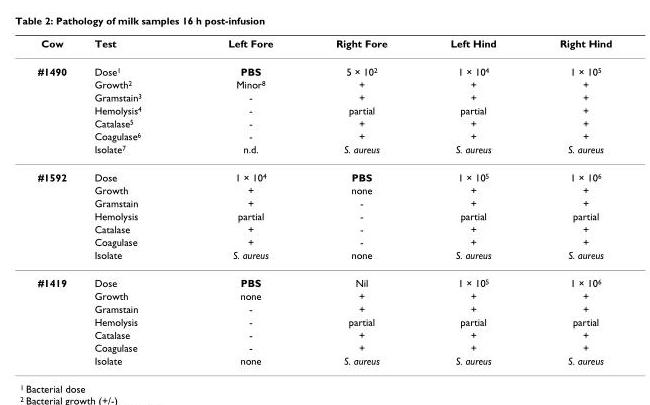table: (36, 36, 611, 366)
table column: (184, 36, 303, 366), (303, 36, 418, 366), (418, 36, 527, 366), (79, 36, 184, 366), (527, 36, 611, 366), (36, 36, 79, 366)
table column header: (36, 36, 611, 57)
table row: (36, 36, 611, 57), (36, 162, 611, 183), (36, 268, 611, 289), (36, 57, 611, 77), (36, 142, 611, 162), (36, 248, 611, 268), (36, 77, 611, 90), (36, 90, 611, 103), (36, 103, 611, 116), (36, 116, 611, 129), (36, 129, 611, 142), (36, 183, 611, 196), (36, 196, 611, 209), (36, 209, 611, 222), (36, 222, 611, 235), (36, 235, 611, 248), (36, 289, 611, 302), (36, 302, 611, 315), (36, 315, 611, 328), (36, 340, 611, 353), (36, 353, 611, 366), (36, 328, 611, 340)
table spanning cell: (36, 162, 79, 268), (36, 57, 79, 162), (36, 268, 79, 366)
